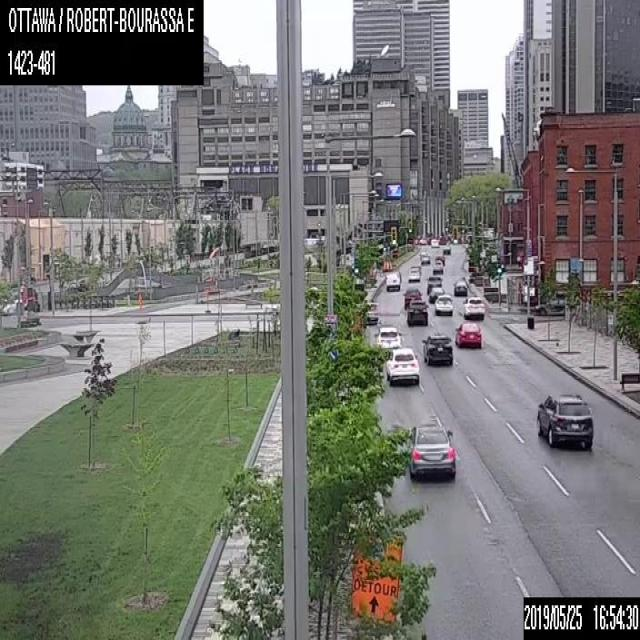construction: (350, 541, 403, 635)
vehicle: (534, 391, 594, 448), (408, 421, 458, 479), (386, 347, 419, 385), (421, 332, 452, 364), (534, 290, 565, 316), (454, 321, 482, 347), (373, 325, 401, 350), (405, 299, 428, 325), (462, 296, 484, 320), (402, 286, 422, 308), (433, 294, 452, 315), (384, 268, 401, 291), (428, 286, 444, 302), (407, 264, 420, 281), (453, 280, 467, 295), (419, 250, 430, 264), (432, 259, 442, 274), (429, 238, 438, 247), (443, 245, 450, 253)
